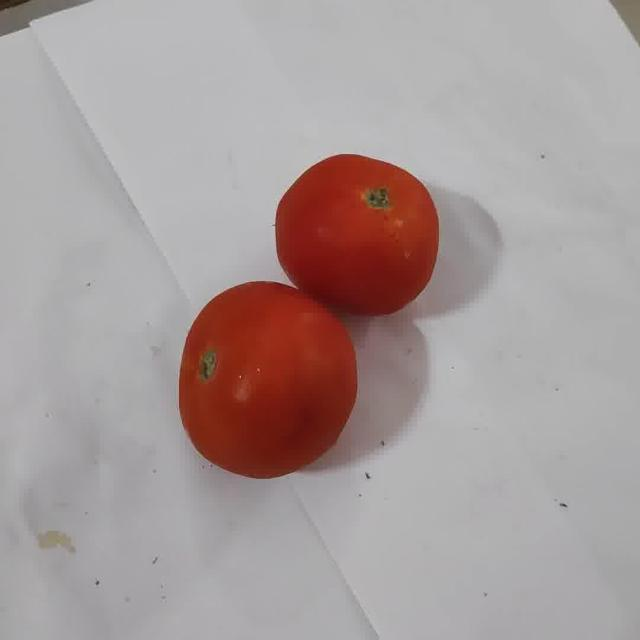Tomato: (178, 283, 357, 478), (276, 154, 439, 316)
